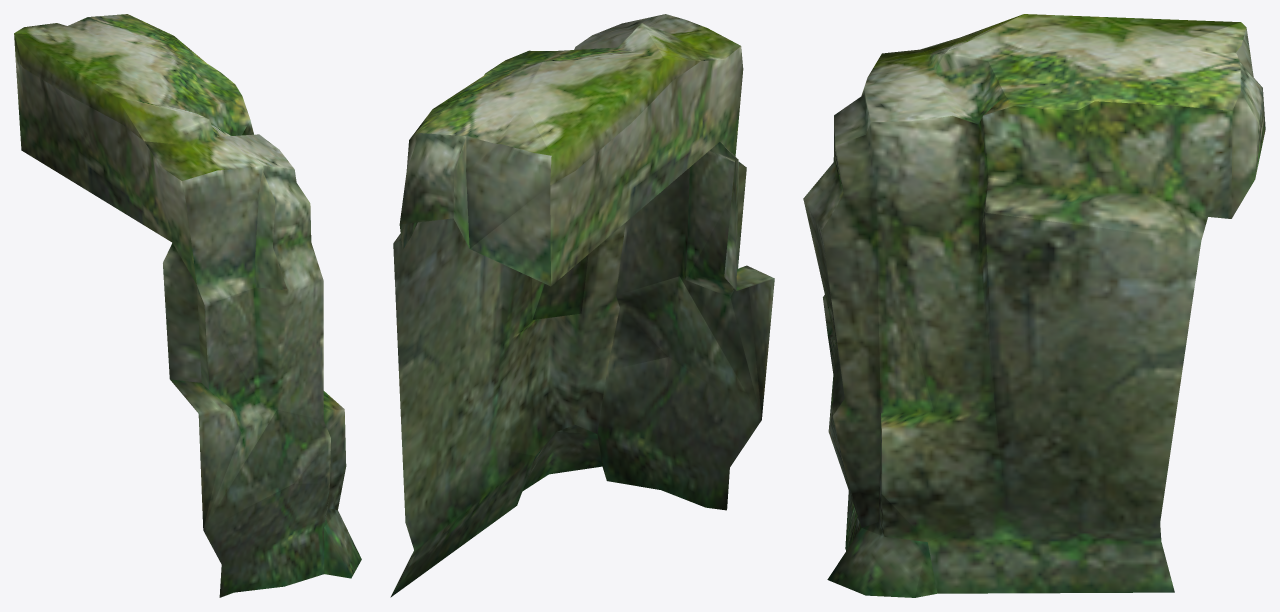
The model's file is S_Rock_Green048_1060_1.fbx.
The picture shows the model from 3 angles, left to right: view 1: azimuth 30°, elevation 25°; view 2: azimuth 150°, elevation 25°; view 3: azimuth 270°, elevation 25°; orthographic projection. The views are drawn at different scales.
Parts seen in each view (by area): view 1: S_Rock_Green048_1060_1; view 2: S_Rock_Green048_1060_1; view 3: S_Rock_Green048_1060_1.
Boxes of the visible parts, x1,y1,x2,y2 form: S_Rock_Green048_1060_1: (14,14,361,597); S_Rock_Green048_1060_1: (390,14,774,597); S_Rock_Green048_1060_1: (803,14,1265,597).
Size of the model in its own units: 885 by 2071 by 1766.
Materials: 1 (1 with a texture image).
